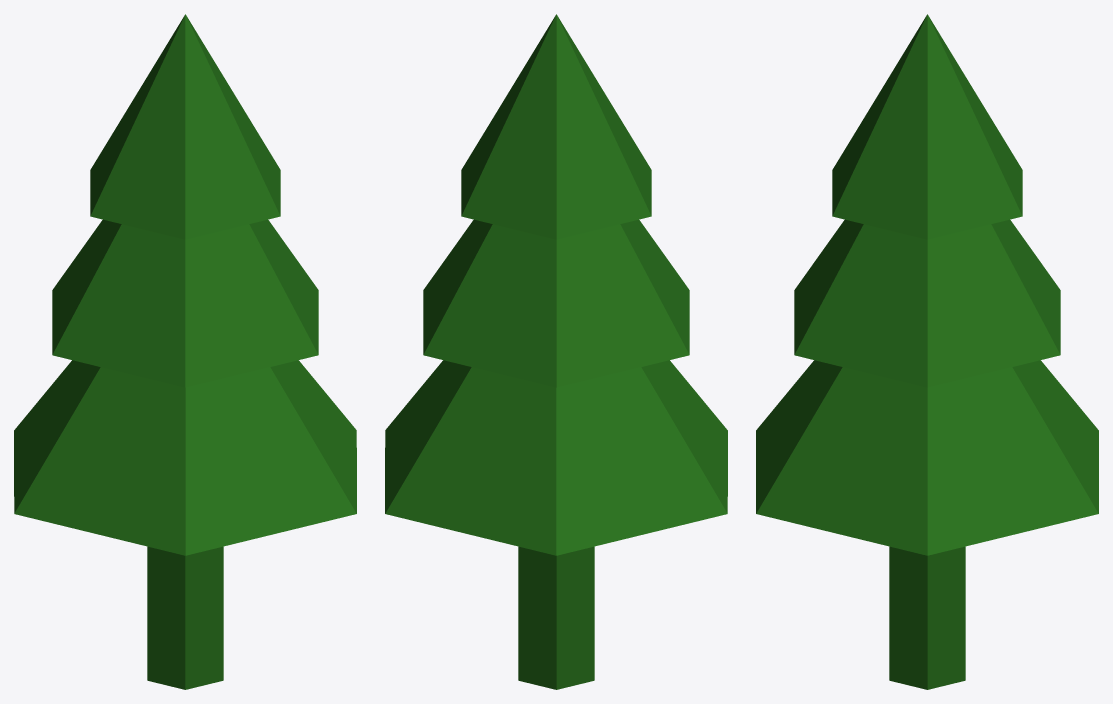
The model's file is tree_pine.obj.
3 renders of one model, left to right at view 1: azimuth 30°, elevation 25°; view 2: azimuth 150°, elevation 25°; view 3: azimuth 270°, elevation 25°, orthographic.
Bounding box in the file's own units: 0.36 × 0.66 × 0.3118.
